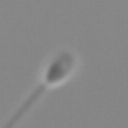normal: (1, 84, 46, 128)
